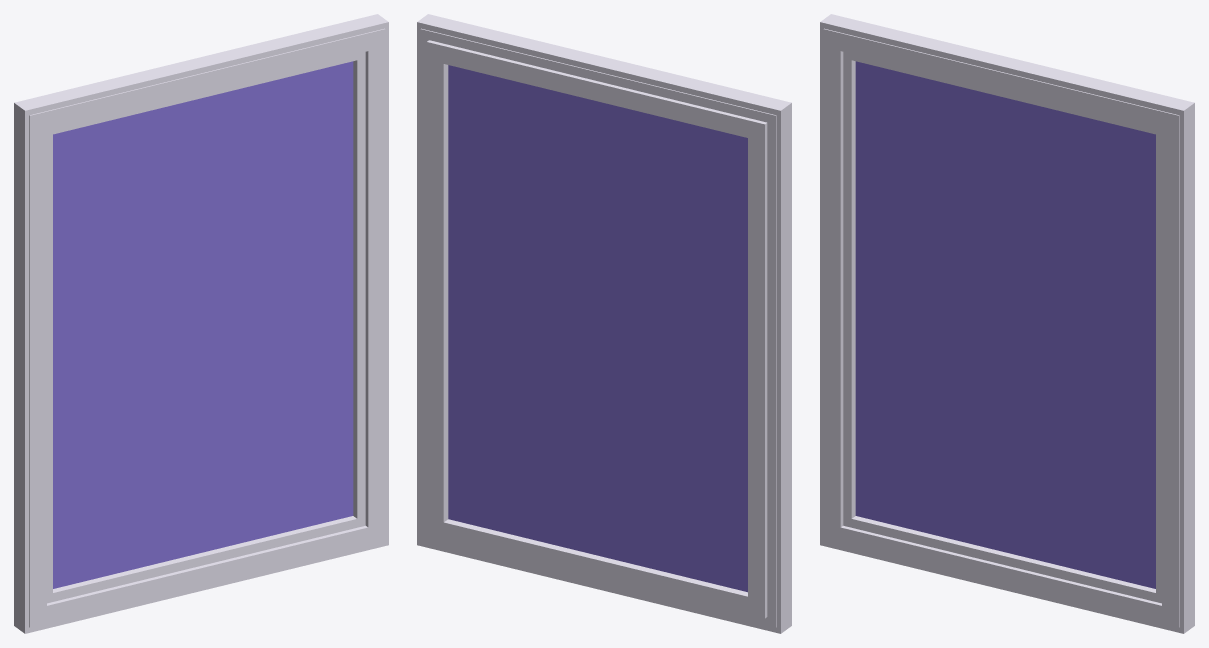
The model's file is window.fbx.
3 renders of one model, left to right at view 1: azimuth 30°, elevation 25°; view 2: azimuth 150°, elevation 25°; view 3: azimuth 330°, elevation 25°, orthographic.
Visible parts, largest first — view 1: AC_Окно_1Створка 870х1460h 2 [549439]; view 2: AC_Окно_1Створка 870х1460h 2 [549439]; view 3: AC_Окно_1Створка 870х1460h 2 [549439].
Part boxes in pixels (x1,y1,x2,y2): AC_Окно_1Створка 870х1460h 2 [549439]: (14,14,388,633); AC_Окно_1Створка 870х1460h 2 [549439]: (417,14,791,633); AC_Окно_1Створка 870х1460h 2 [549439]: (820,14,1194,633).
Bounding box in the file's own units: 171 × 235 × 12.
